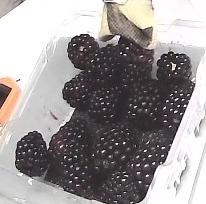berry: (89, 125, 138, 175), (128, 133, 167, 193), (125, 80, 161, 133), (84, 80, 124, 127), (57, 157, 98, 202), (47, 118, 86, 165), (163, 84, 195, 136), (14, 132, 46, 178), (97, 171, 140, 203), (66, 35, 101, 71), (62, 73, 95, 108), (120, 35, 154, 65), (157, 52, 190, 82), (123, 58, 151, 93), (98, 44, 123, 79)
